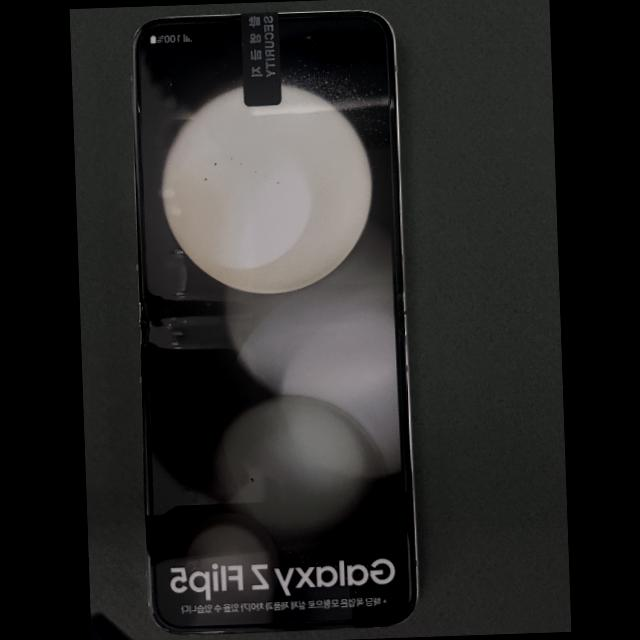phone: (133, 10, 418, 634)
sticker: (240, 11, 281, 107)
